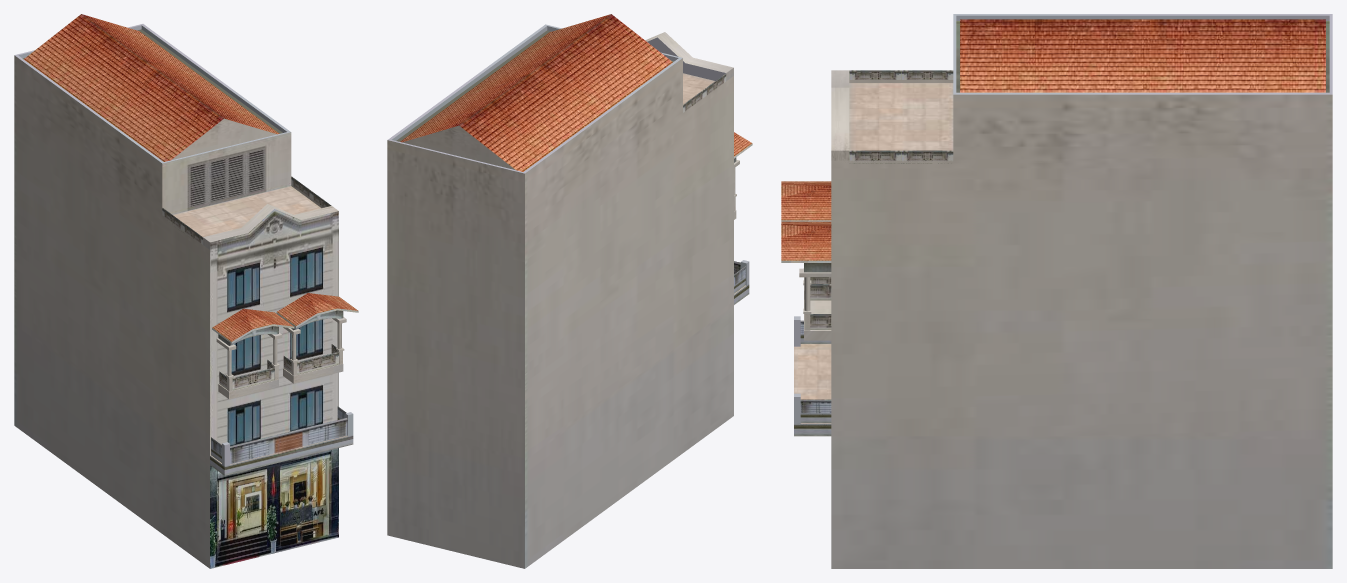
3 views of the same model, side by side, from view 1: azimuth 30°, elevation 25°; view 2: azimuth 150°, elevation 25°; view 3: azimuth 270°, elevation 25° (orthographic). The views are drawn at different scales.
Parts seen in each view (by area): view 1: HN369_DiamondLegendHotel; view 2: HN369_DiamondLegendHotel; view 3: HN369_DiamondLegendHotel.
Boxes of the visible parts, <box> form: HN369_DiamondLegendHotel: <box>14,14,358,568</box>; HN369_DiamondLegendHotel: <box>387,14,752,568</box>; HN369_DiamondLegendHotel: <box>781,14,1332,568</box>.
Size of the model in its own units: 6.47 by 19.06 by 18.7.
Materials: 1 (1 with a texture image).
